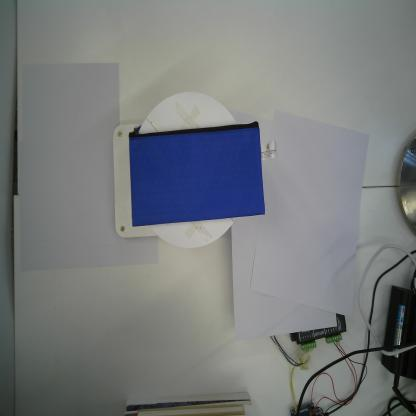Stationery: (127, 117, 267, 228)
